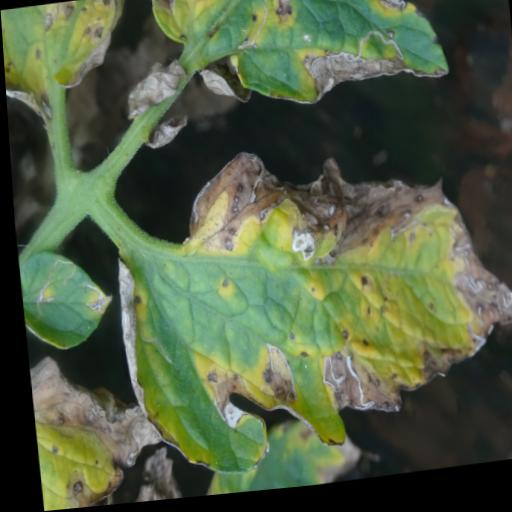Early Blight: (95, 121, 512, 495), (146, 0, 448, 126), (22, 345, 161, 512)
